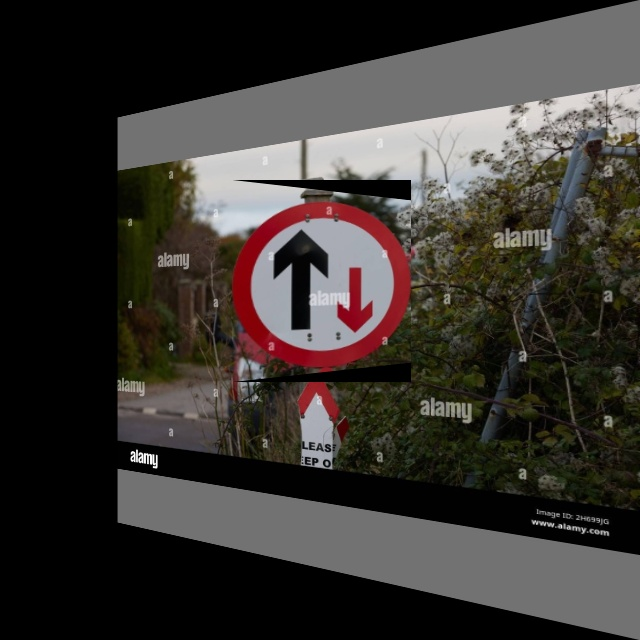Priority_for_Oncoming_Traffic: (232, 180, 411, 382)
